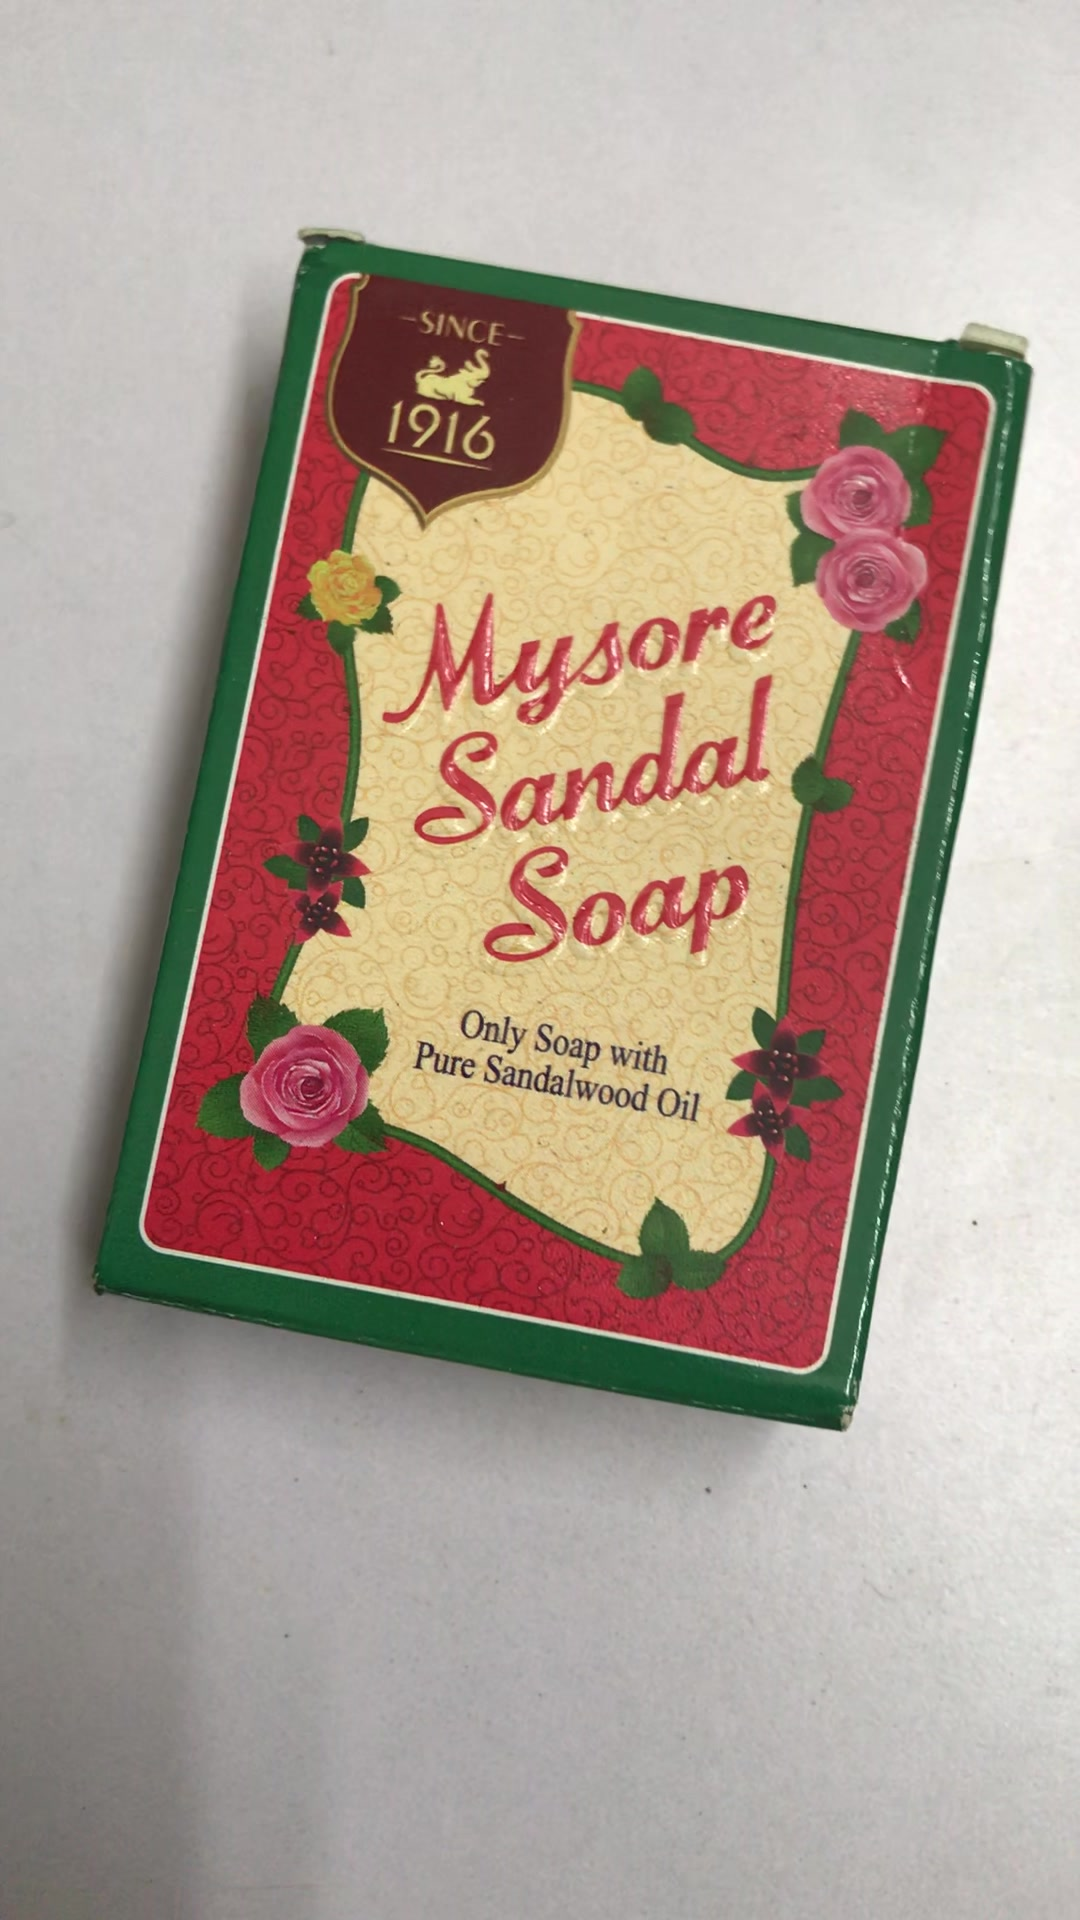mysore sandal soap: (94, 227, 1036, 1433)
